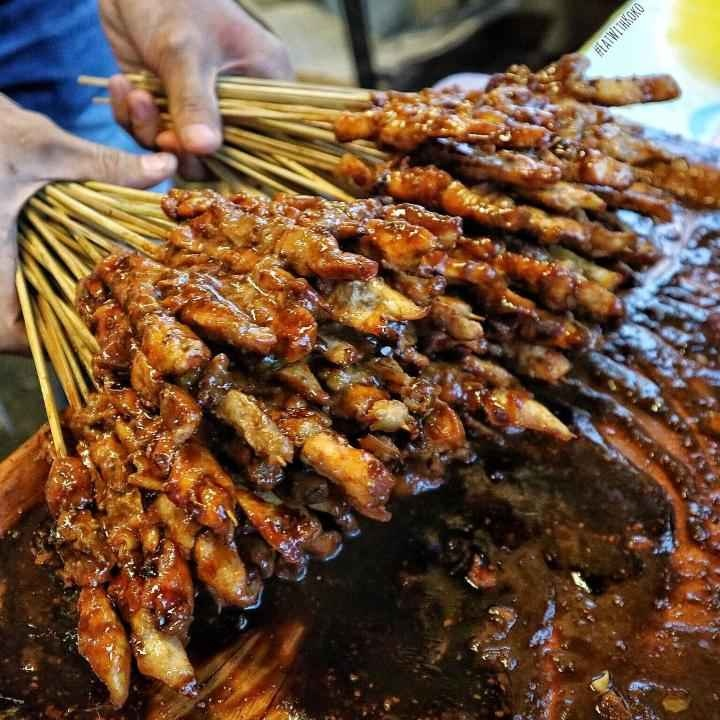sate_madura: (16, 82, 708, 693)
